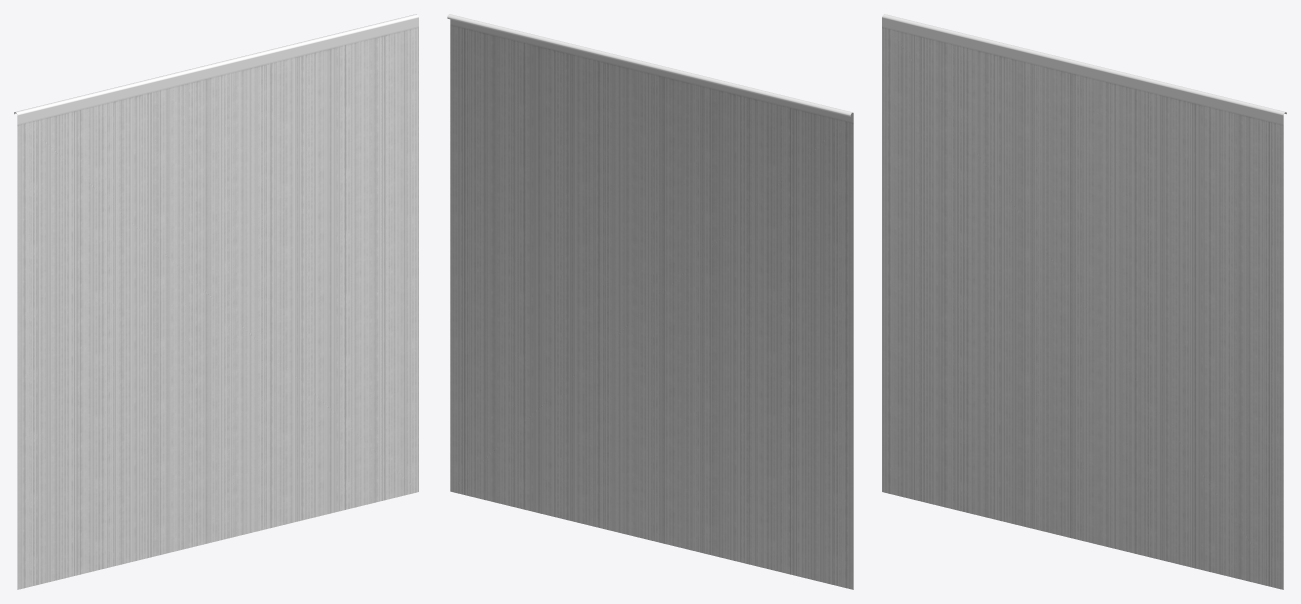
File: PartyBackdrop02_3.FBX
The picture shows the model from 3 angles, left to right: view 1: azimuth 30°, elevation 25°; view 2: azimuth 150°, elevation 25°; view 3: azimuth 330°, elevation 25°; orthographic projection.
Parts seen in each view (by area): view 1: PartyBackdrop02_3; view 2: PartyBackdrop02_3; view 3: PartyBackdrop02_3.
Part boxes in pixels (left/top/right/bottom): PartyBackdrop02_3: left=14, top=14, right=418, bottom=589; PartyBackdrop02_3: left=447, top=14, right=853, bottom=589; PartyBackdrop02_3: left=882, top=14, right=1286, bottom=589.
Size of what is drawn, in the model's own units: 3 by 3.4 by 0.044.
